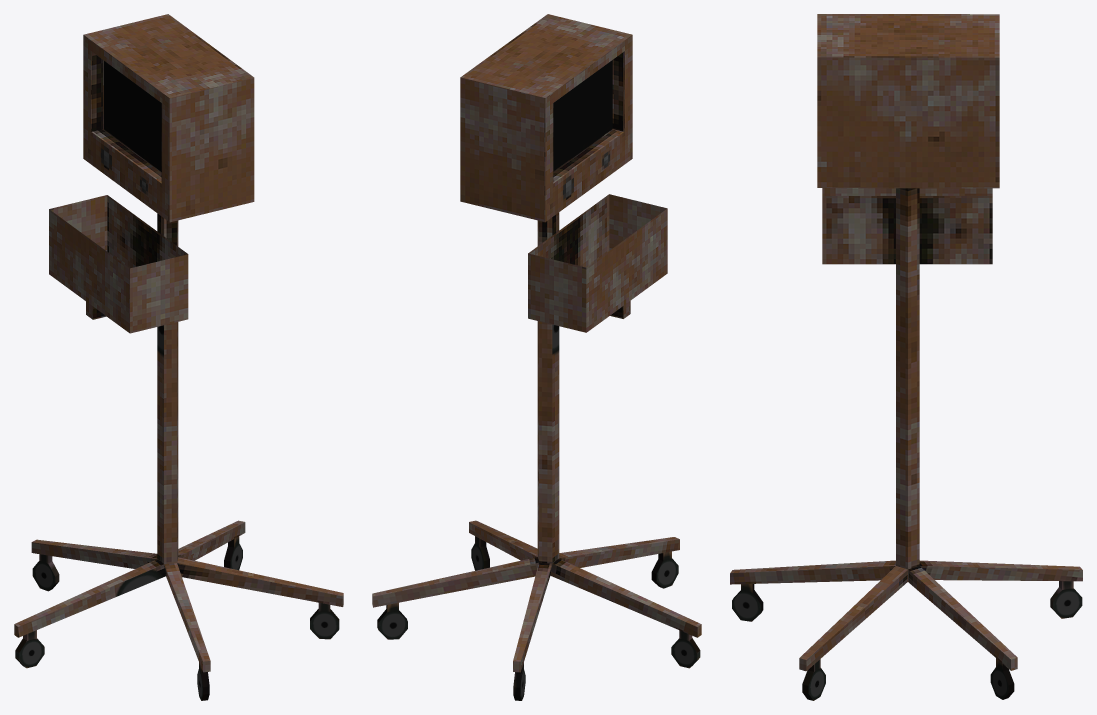
Rendered from SM_PatientMonitor.fbx.
The picture shows the model from 3 angles, left to right: view 1: azimuth 30°, elevation 25°; view 2: azimuth 150°, elevation 25°; view 3: azimuth 270°, elevation 25°; orthographic projection. The views are drawn at different scales.
Parts seen in each view (by area): view 1: SM_PatientMonitor; view 2: SM_PatientMonitor; view 3: SM_PatientMonitor.
Part boxes in pixels (x1,y1,x2,y2): SM_PatientMonitor: [14, 14, 343, 700]; SM_PatientMonitor: [372, 14, 701, 700]; SM_PatientMonitor: [730, 14, 1082, 700].
Size of the model in its own units: 71.1 by 140 by 74.
